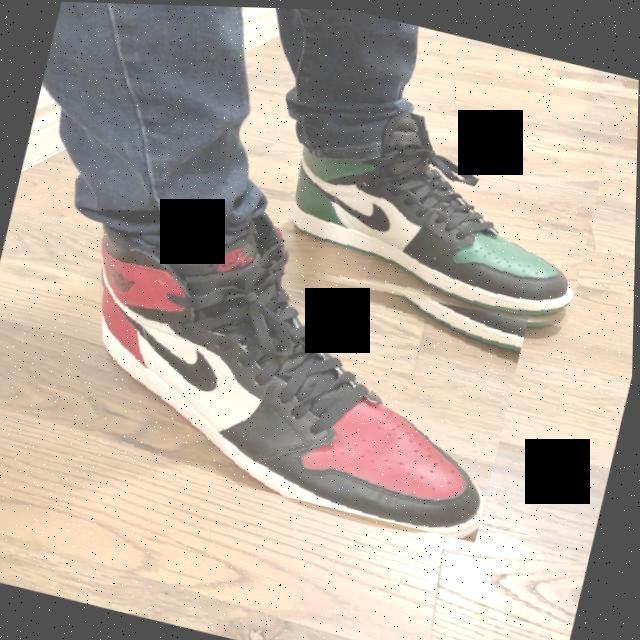shoe: (49, 186, 537, 541), (259, 84, 607, 339)
